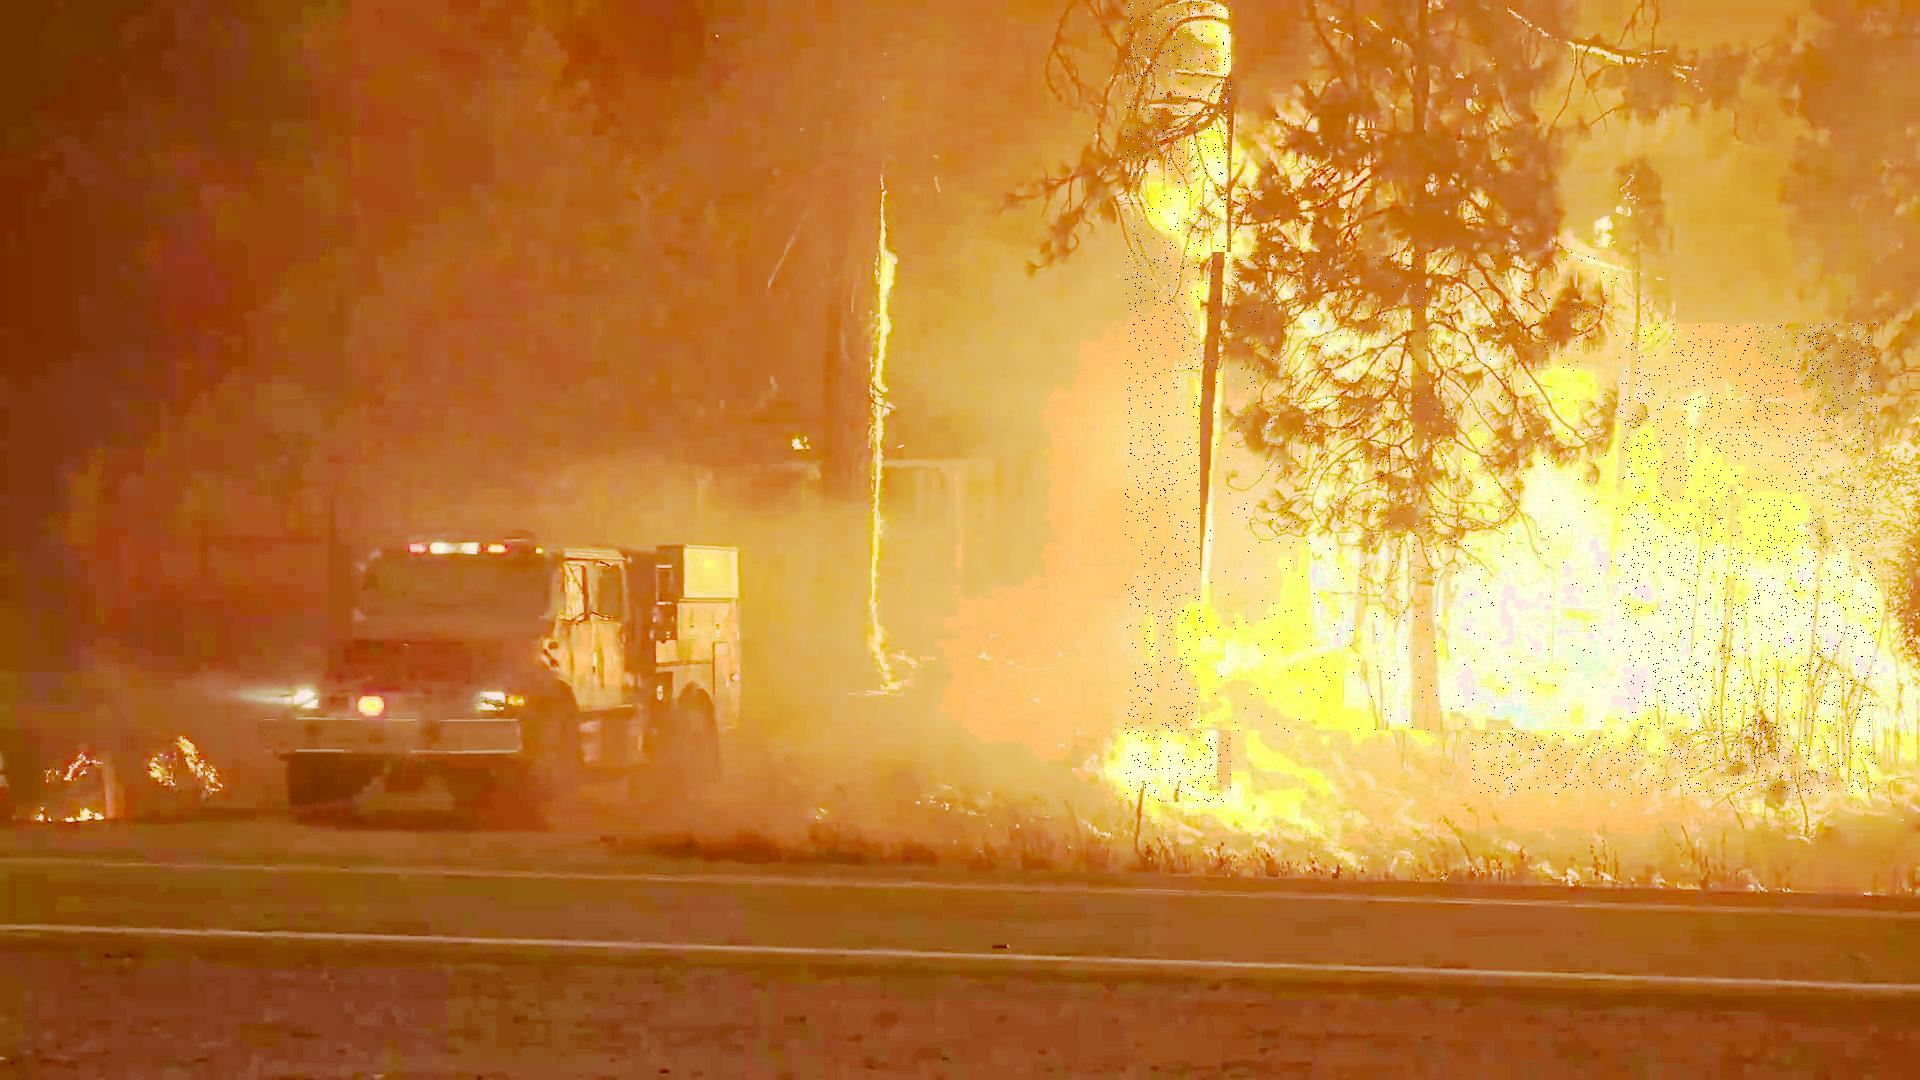fire: (1200, 253, 1623, 733), (1470, 323, 1876, 794), (1125, 0, 1232, 802)
